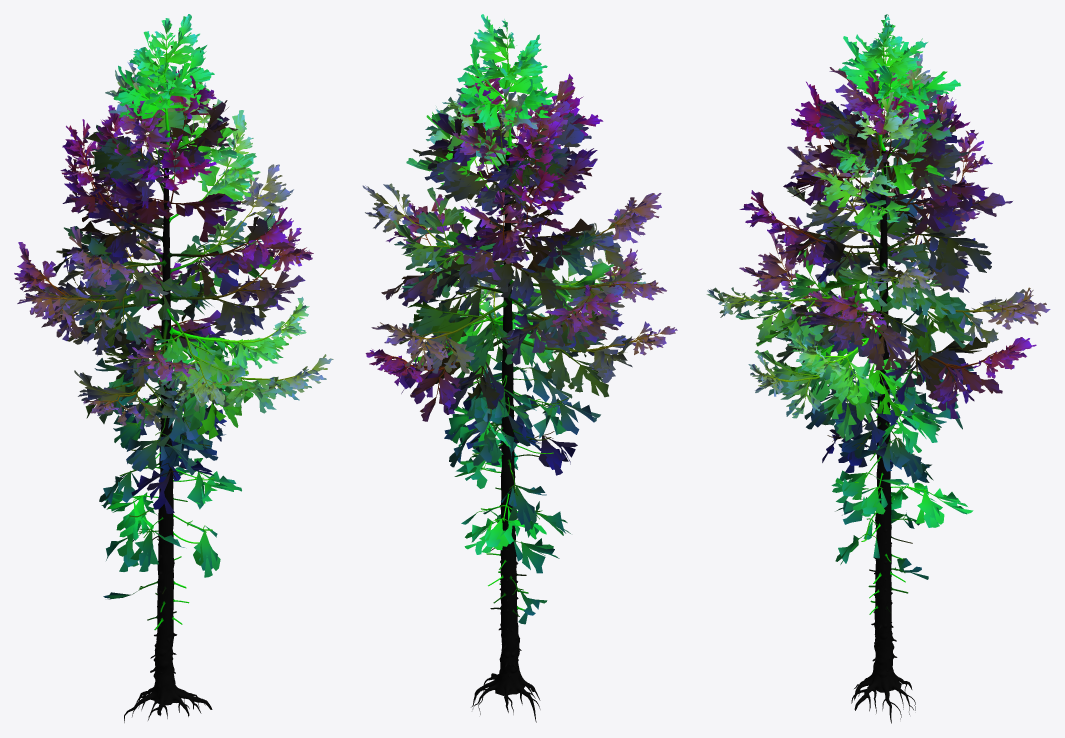
Rendered from SM_SilverFir_XL_01.fbx.
3 renders of one model, left to right at view 1: azimuth 30°, elevation 25°; view 2: azimuth 150°, elevation 25°; view 3: azimuth 270°, elevation 25°, orthographic.
Parts seen in each view (by area): view 1: SM_SilverFir_XL_01_LOD0; view 2: SM_SilverFir_XL_01_LOD0; view 3: SM_SilverFir_XL_01_LOD0.
Boxes of the visible parts, x1=… form: SM_SilverFir_XL_01_LOD0: x1=14, y1=14, x2=333, y2=722; SM_SilverFir_XL_01_LOD0: x1=362, y1=14, x2=677, y2=722; SM_SilverFir_XL_01_LOD0: x1=706, y1=14, x2=1050, y2=723.
Size of the model in its own units: 2108 by 2271 by 5068.
